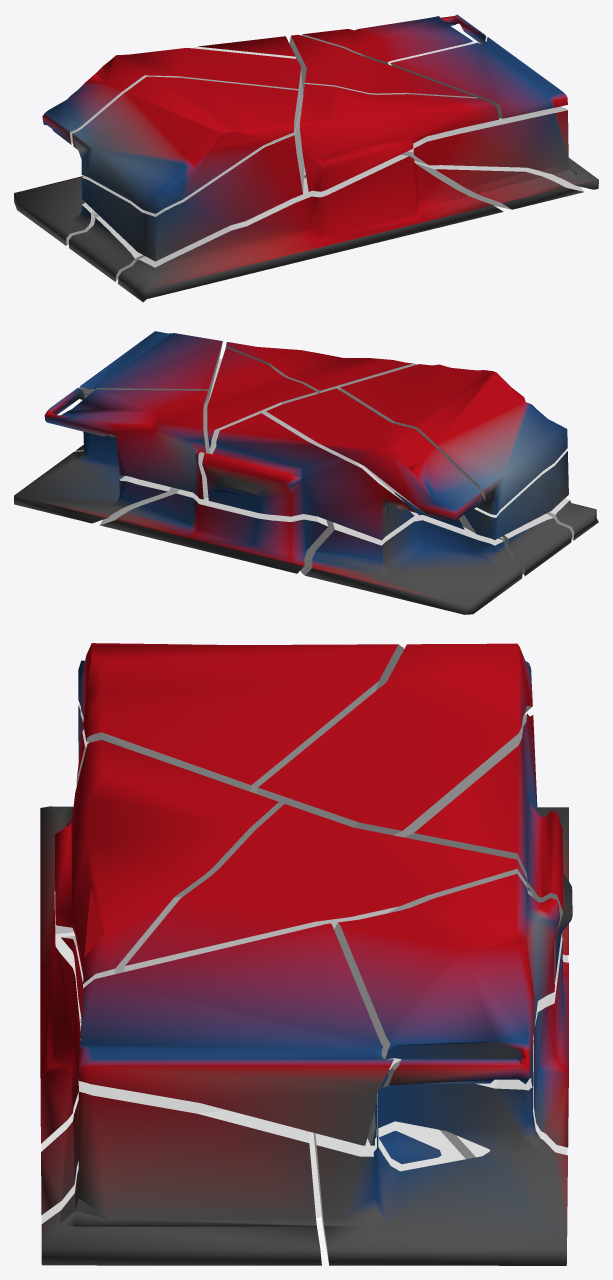
Rendered from Convenience Stores.glb.
The picture shows the model from 3 angles, top to bottom: view 1: azimuth 30°, elevation 25°; view 2: azimuth 150°, elevation 25°; view 3: azimuth 270°, elevation 25°; orthographic projection. The views are drawn at different scales.
Visible parts, largest first — view 1: Root, Root.001, Root.015, Root.009, Root.005, Root.010, Root.011, Root.007, Root.003, Root.014, Root.004, Root.008 (+1 smaller); view 2: Root.001, Root.013, Root.004, Root.005, Root.003, Root.006, Root.002, Root.011, Root.007, Root.015, Root.009, Root.008 (+1 smaller); view 3: Root.011, Root.010, Root.002, Root.003, Root.001, Root.015, Root.005, Root.007, Root.013, Root, Root.006, Root.014 (+1 smaller).
Boxes of the visible parts, x1=… form: Root: x1=117, y1=154, x2=503, y2=302; Root.001: x1=72, y1=76, x2=300, y2=213; Root.015: x1=300, y1=84, x2=498, y2=191; Root.009: x1=81, y1=114, x2=304, y2=261; Root.005: x1=42, y1=48, x2=303, y2=144; Root.010: x1=401, y1=106, x2=598, y2=189; Root.011: x1=390, y1=37, x2=567, y2=118; Root.007: x1=289, y1=34, x2=476, y2=98; Root.003: x1=301, y1=14, x2=487, y2=65; Root.014: x1=414, y1=161, x2=584, y2=209; Root.004: x1=14, y1=176, x2=95, y2=245; Root.008: x1=69, y1=168, x2=306, y2=281; Root.001: x1=340, y1=364, x2=567, y2=514; Root.013: x1=202, y1=413, x2=418, y2=540; Root.004: x1=300, y1=511, x2=522, y2=614; Root.005: x1=266, y1=388, x2=482, y2=529; Root.003: x1=44, y1=388, x2=210, y2=499; Root.006: x1=99, y1=487, x2=328, y2=573; Root.002: x1=14, y1=431, x2=170, y2=523; Root.011: x1=79, y1=331, x2=222, y2=407; Root.007: x1=207, y1=348, x2=316, y2=454; Root.015: x1=226, y1=342, x2=416, y2=393; Root.009: x1=458, y1=449, x2=568, y2=539; Root.008: x1=502, y1=514, x2=571, y2=575; Root.011: x1=78, y1=923, x2=393, y2=1145; Root.010: x1=41, y1=936, x2=321, y2=1265; Root.002: x1=313, y1=1039, x2=567, y2=1265; Root.003: x1=334, y1=874, x2=559, y2=1145; Root.001: x1=78, y1=643, x2=404, y2=793; Root.015: x1=54, y1=740, x2=278, y2=988; Root.005: x1=256, y1=643, x2=532, y2=835; Root.007: x1=124, y1=804, x2=531, y2=971; Root.013: x1=393, y1=713, x2=572, y2=981; Root: x1=40, y1=806, x2=80, y2=1151; Root.006: x1=439, y1=934, x2=568, y2=1159; Root.014: x1=41, y1=1016, x2=465, y2=1223.
Bounding box in the file's own units: 20.9 × 6.04 × 10.62.
